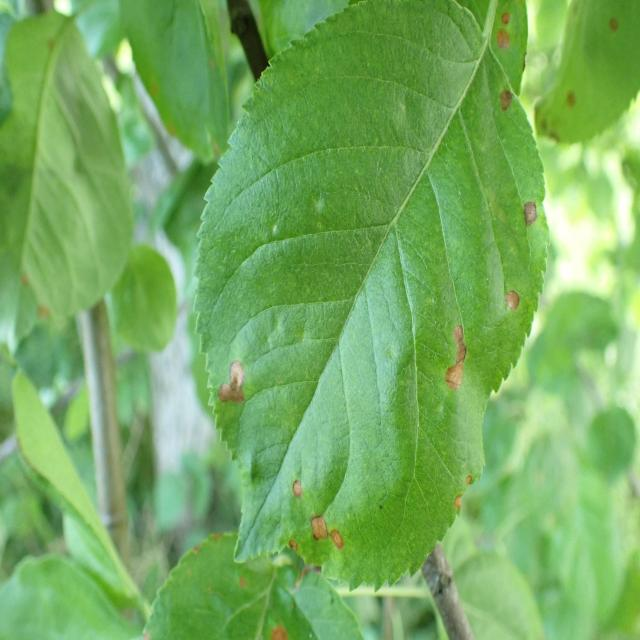Black Rot: (210, 348, 256, 422), (444, 326, 479, 419), (452, 466, 486, 549), (305, 513, 354, 569), (489, 274, 526, 338), (273, 468, 318, 507), (490, 0, 516, 58), (511, 196, 551, 233), (495, 76, 518, 122), (261, 613, 293, 640), (286, 528, 302, 570), (236, 578, 247, 599)
